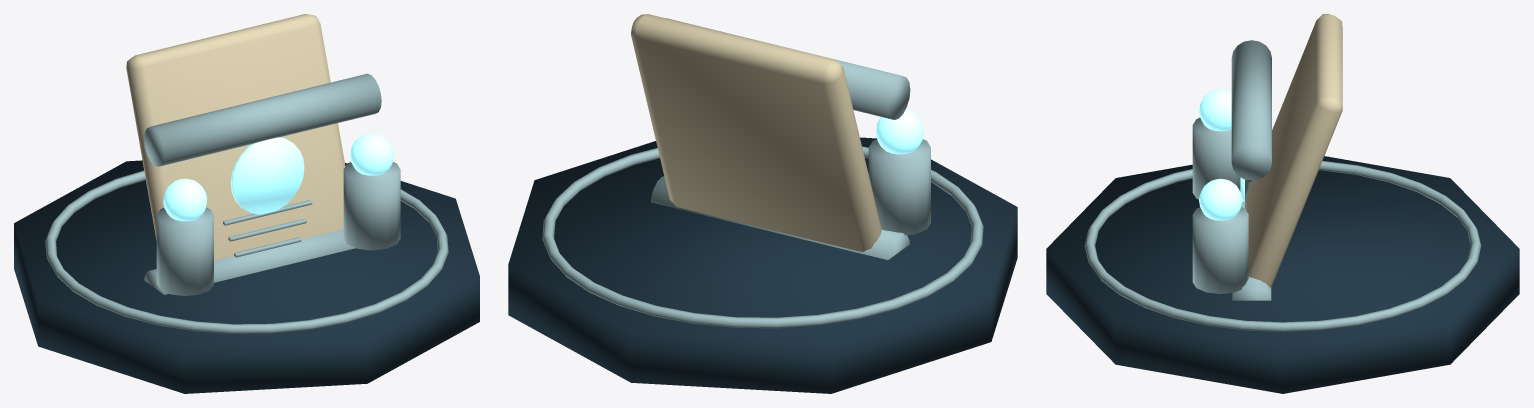
The picture shows the model from 3 angles, left to right: view 1: azimuth 30°, elevation 25°; view 2: azimuth 150°, elevation 25°; view 3: azimuth 270°, elevation 25°; orthographic projection. The views are drawn at different scales.
Visible parts, largest first — view 1: Hexagonal plinth, Parchment, Binding.001, Inlaid rim, Tactical token.001, Tactical token, 3B embossed seal, Binding, Tactical head, Tactical head.001, Embossed line.001, Embossed line; view 2: Hexagonal plinth, Parchment, Inlaid rim, Tactical token, Binding.001, Binding, Tactical head; view 3: Hexagonal plinth, Parchment, Inlaid rim, Binding.001, Tactical token.001, Tactical token, Tactical head.001, Tactical head, Binding.
Boxes of the visible parts, x1,y1,x2,y2 form: Hexagonal plinth: (14, 160, 479, 393); Parchment: (126, 14, 345, 260); Binding.001: (144, 73, 381, 166); Inlaid rim: (45, 170, 448, 333); Tactical token.001: (343, 162, 400, 250); Tactical token: (156, 207, 213, 295); 3B embossed seal: (230, 137, 304, 214); Binding: (144, 229, 355, 294); Tactical head: (163, 178, 207, 221); Tactical head.001: (350, 133, 393, 175); Embossed line.001: (228, 219, 306, 241); Embossed line: (223, 200, 312, 225); Hexagonal plinth: (508, 137, 1017, 393); Parchment: (631, 14, 881, 252); Inlaid rim: (542, 146, 983, 328); Tactical token: (868, 139, 930, 235); Binding.001: (666, 18, 910, 119); Binding: (650, 176, 909, 259); Tactical head: (876, 108, 923, 154); Hexagonal plinth: (1046, 156, 1519, 393); Parchment: (1246, 14, 1342, 287); Inlaid rim: (1084, 161, 1481, 331); Binding.001: (1231, 40, 1271, 180); Tactical token.001: (1192, 207, 1248, 293); Tactical token: (1192, 117, 1248, 199); Tactical head.001: (1199, 178, 1242, 220); Tactical head: (1199, 89, 1231, 131); Binding: (1232, 181, 1271, 300).
Bounding box in the file's own units: 1.52 × 0.8899 × 1.52.
